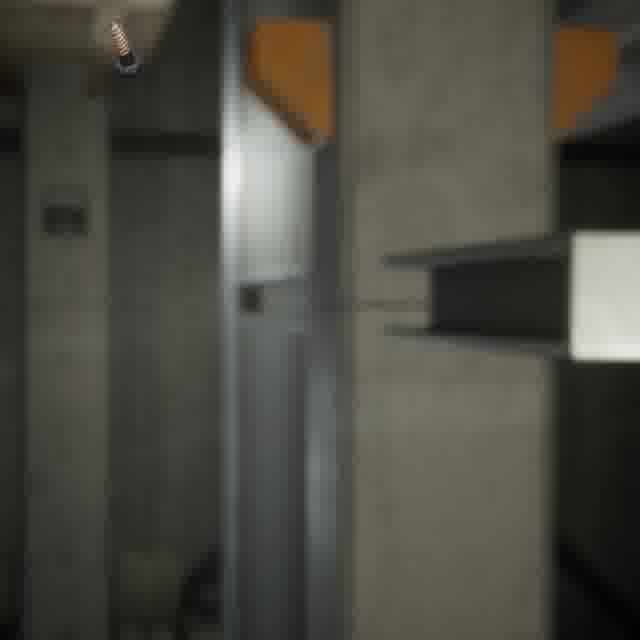bolt: (102, 16, 149, 83)
